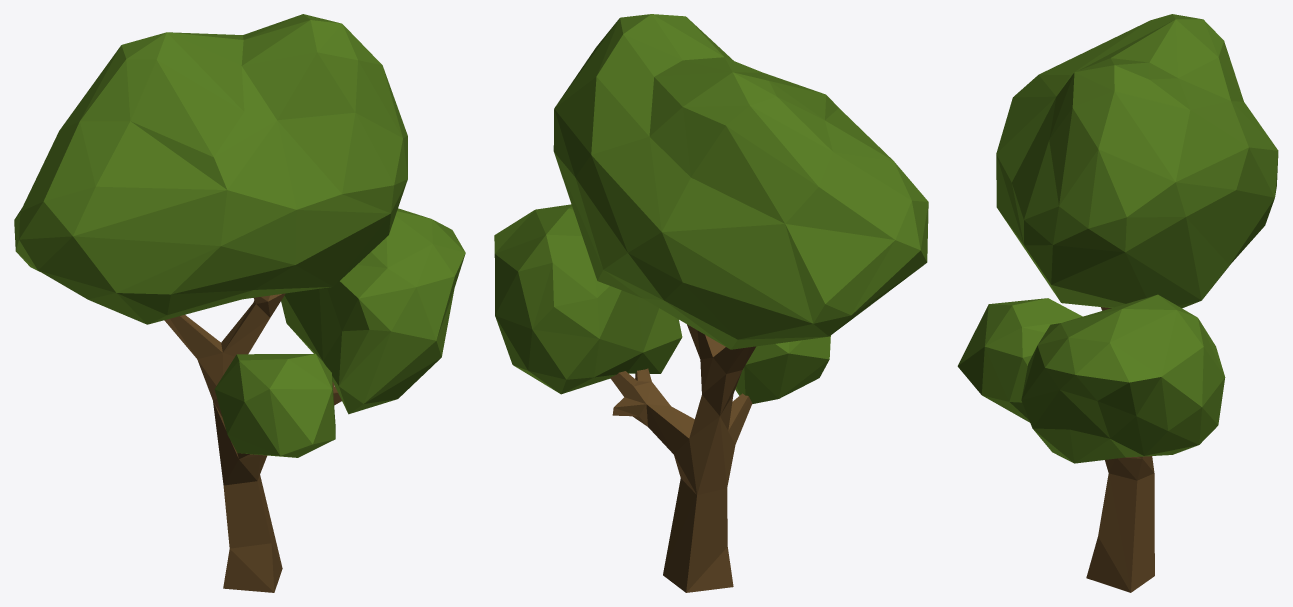
3 renders of one model, left to right at view 1: azimuth 30°, elevation 25°; view 2: azimuth 150°, elevation 25°; view 3: azimuth 270°, elevation 25°, orthographic. The views are drawn at different scales.
Visible parts, largest first — view 1: Tree1_1; view 2: Tree1_1; view 3: Tree1_1.
Part boxes in pixels (x1,y1,x2,y2): Tree1_1: (14, 14, 465, 592); Tree1_1: (494, 14, 928, 592); Tree1_1: (957, 14, 1278, 592).
Bounding box in the file's own units: 6 × 7.34 × 3.97.
